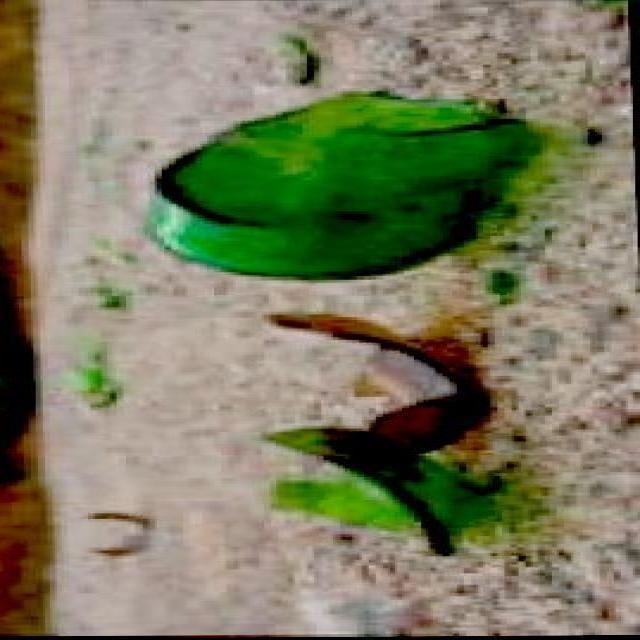Dry: (139, 87, 551, 283), (254, 300, 511, 557)
